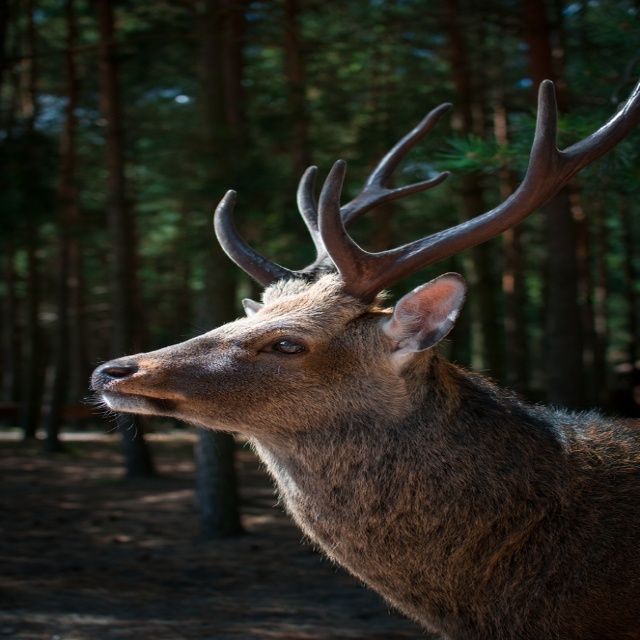Deer: (77, 78, 640, 640)
